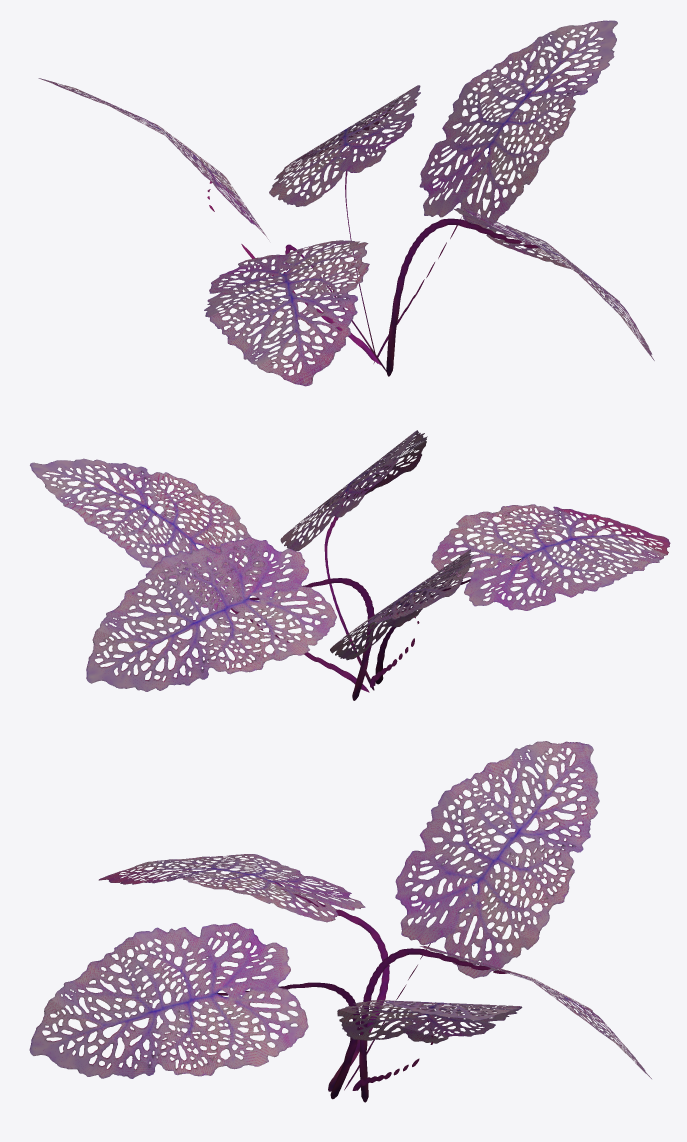
File: Spin Reef C1.fbx
The picture shows the model from 3 angles, top to bottom: view 1: azimuth 30°, elevation 25°; view 2: azimuth 150°, elevation 25°; view 3: azimuth 270°, elevation 25°; orthographic projection. The views are drawn at different scales.
Parts seen in each view (by area): view 1: Spin Reef C1; view 2: Spin Reef C1; view 3: Spin Reef C1.
Part boxes in pixels (x1,y1,x2,y2): Spin Reef C1: (38,20,654,386); Spin Reef C1: (30,430,670,700); Spin Reef C1: (29,741,651,1102).
Bounding box in the file's own units: 159 × 76.96 × 167.
